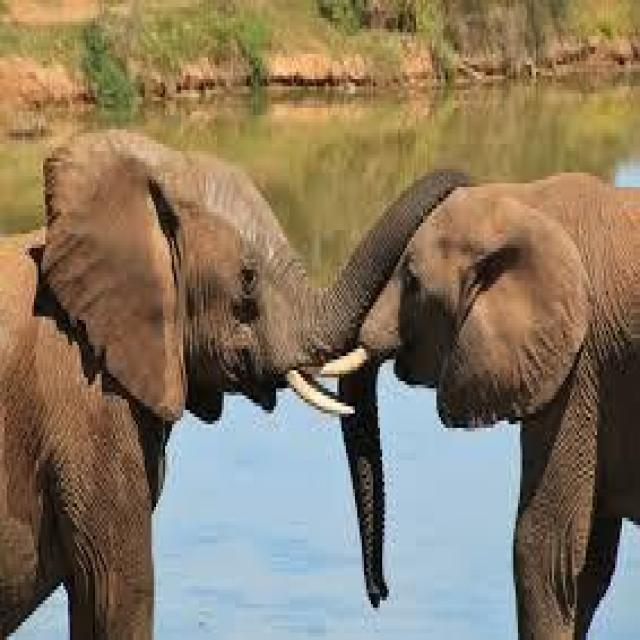Elephant: (0, 115, 391, 629), (334, 172, 638, 632)
